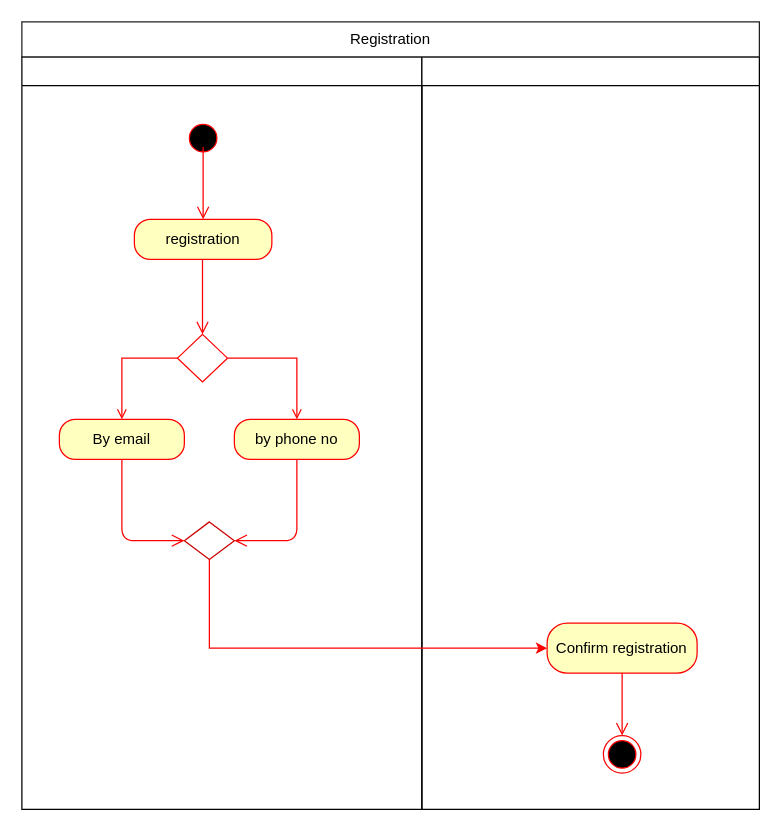
The diagram is 781 pixels wide and 831 high, and some of its shapes have lost their labels. Each missing label, with the box of its shape:
admin: (421, 56, 759, 809)
registered customer: (21, 56, 422, 809)
